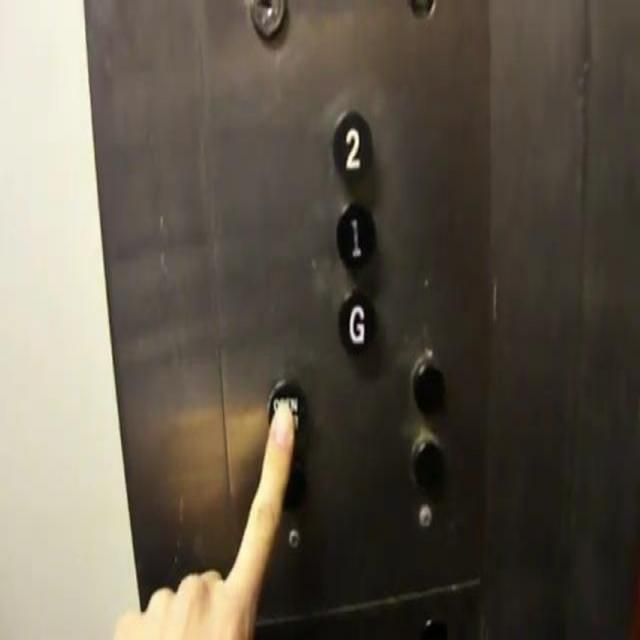1: (336, 201, 376, 268)
2: (331, 109, 371, 180)
G: (338, 288, 378, 355)
indicator: (410, 356, 444, 413), (410, 435, 444, 489)
